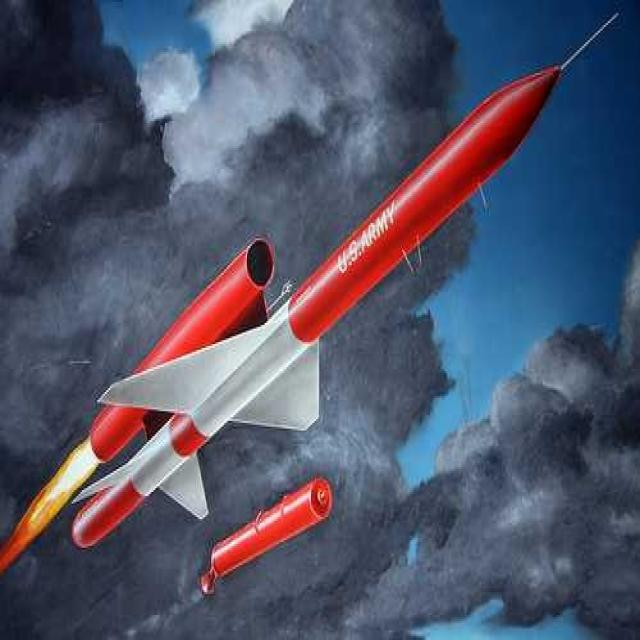missile: (0, 2, 626, 556)
